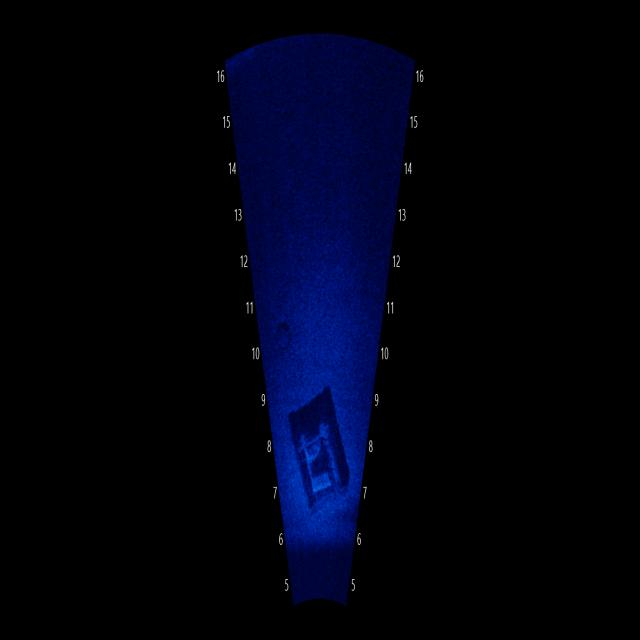square: (290, 381, 354, 510)
